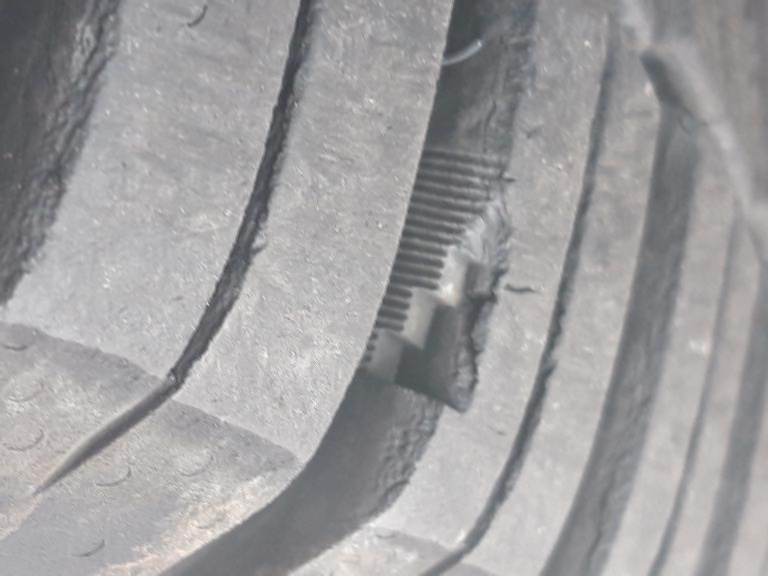temoin:80: (344, 142, 539, 429)
